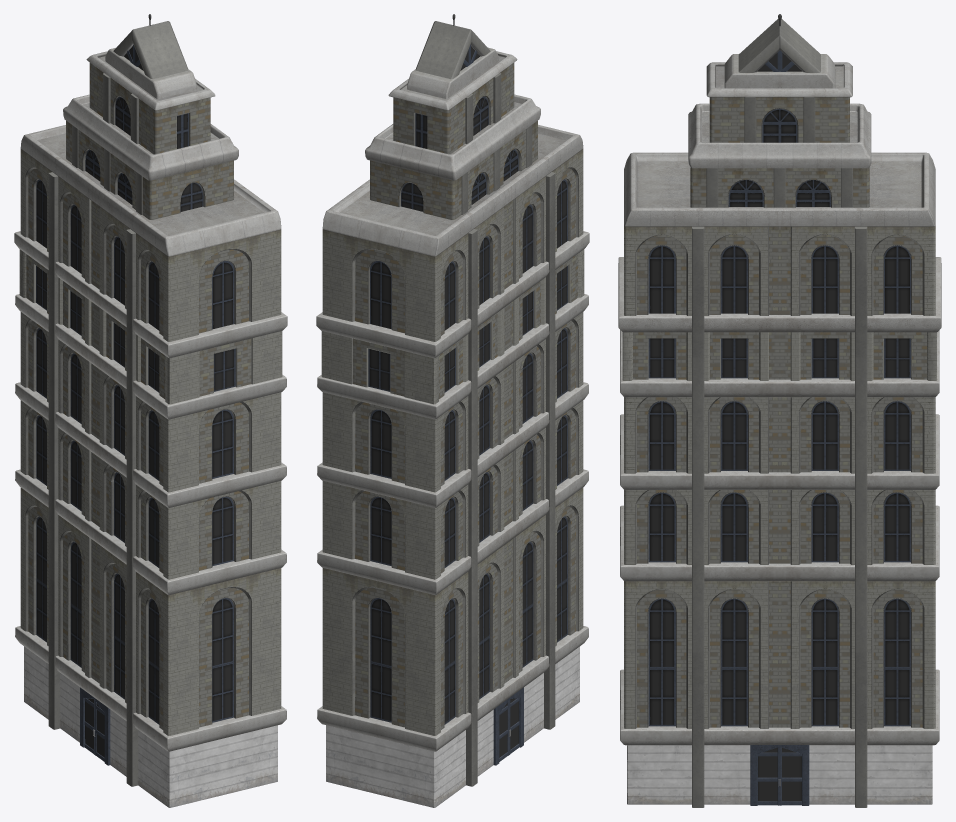
The model's file is skyscrapper.glb.
3 views of the same model, side by side, from view 1: azimuth 30°, elevation 25°; view 2: azimuth 150°, elevation 25°; view 3: azimuth 270°, elevation 25° (orthographic). The views are drawn at different scales.
Parts seen in each view (by area): view 1: early_skyscrapper.1; view 2: early_skyscrapper.1; view 3: early_skyscrapper.1.
Part boxes in pixels (<box>): early_skyscrapper.1: <box>14,14,287,807</box>; early_skyscrapper.1: <box>316,14,589,807</box>; early_skyscrapper.1: <box>618,14,941,807</box>.
Bounding box in the file's own units: 8.94 × 50.86 × 19.54.
Materials: 1 (1 with a texture image).
